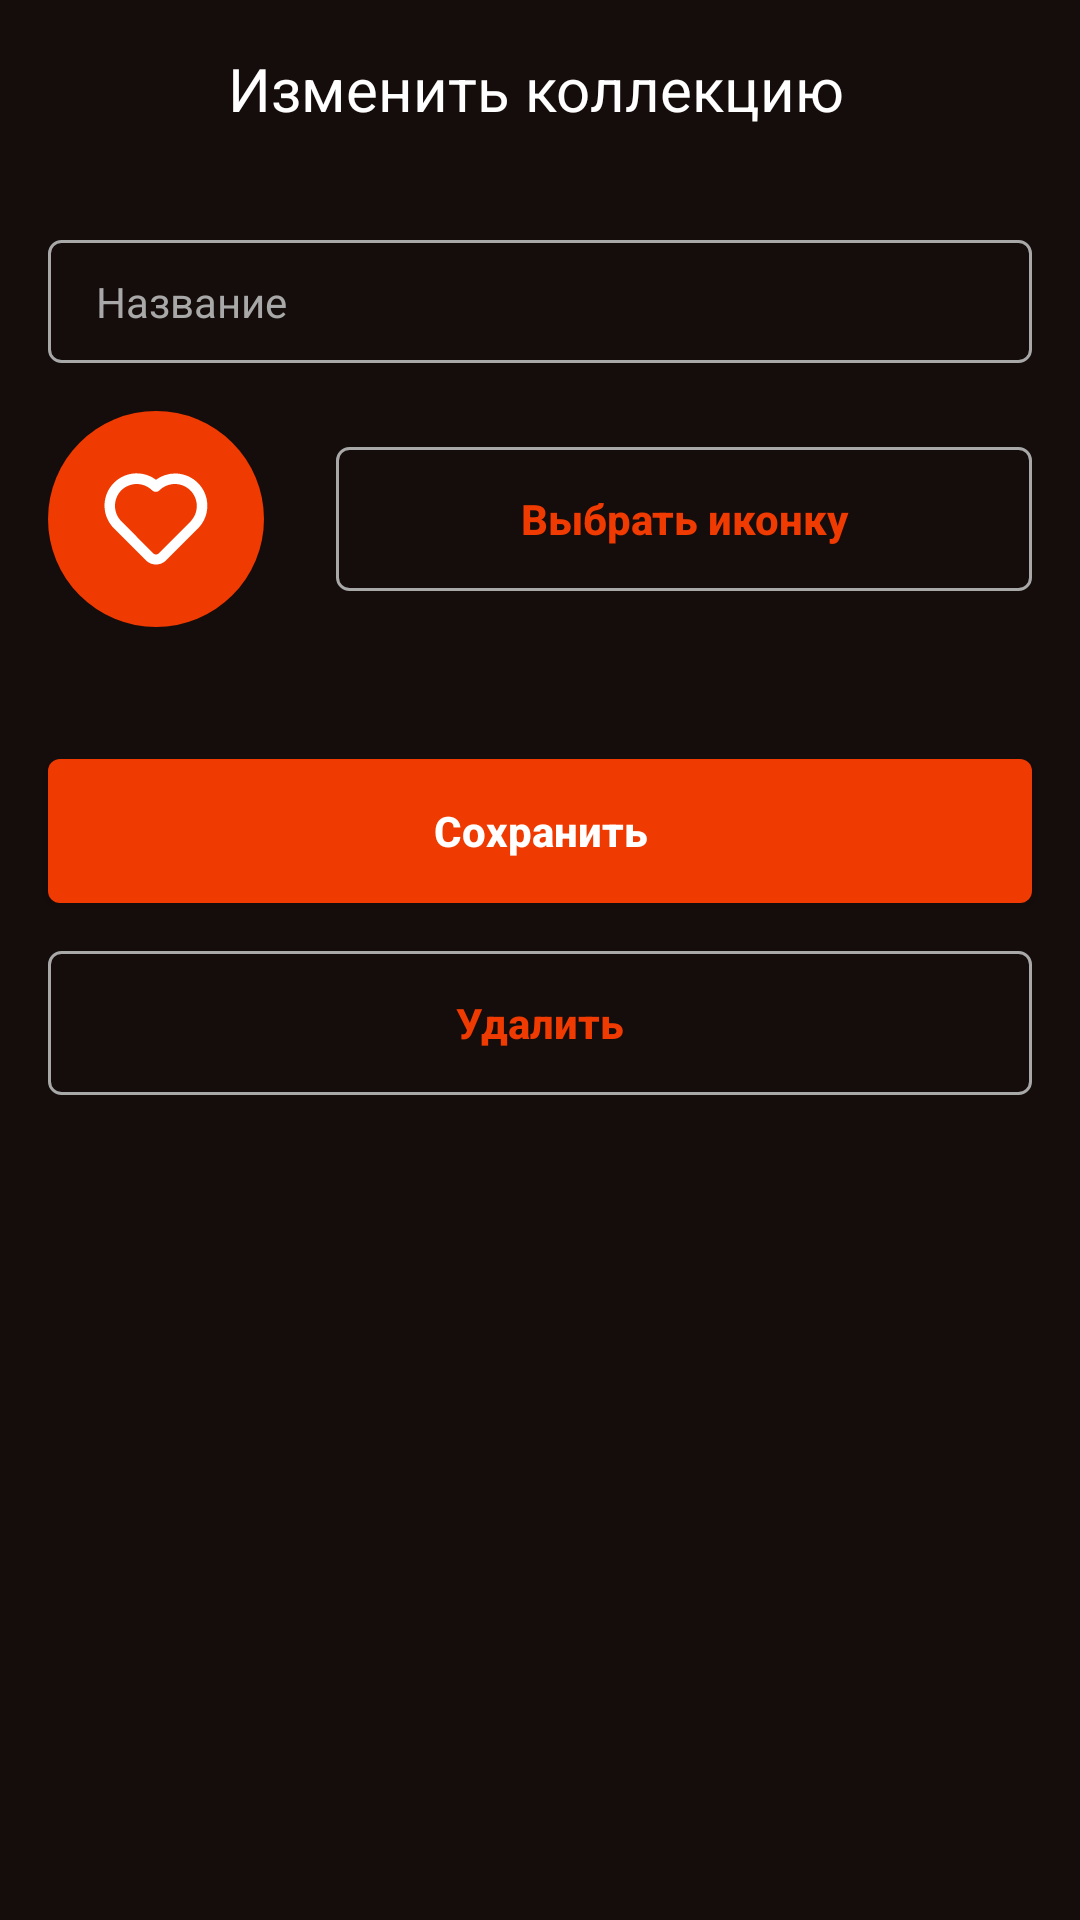

Icon click points for this 1080 x 1920 phone screenshot, format point (x, y):
collection: point (156, 519)
